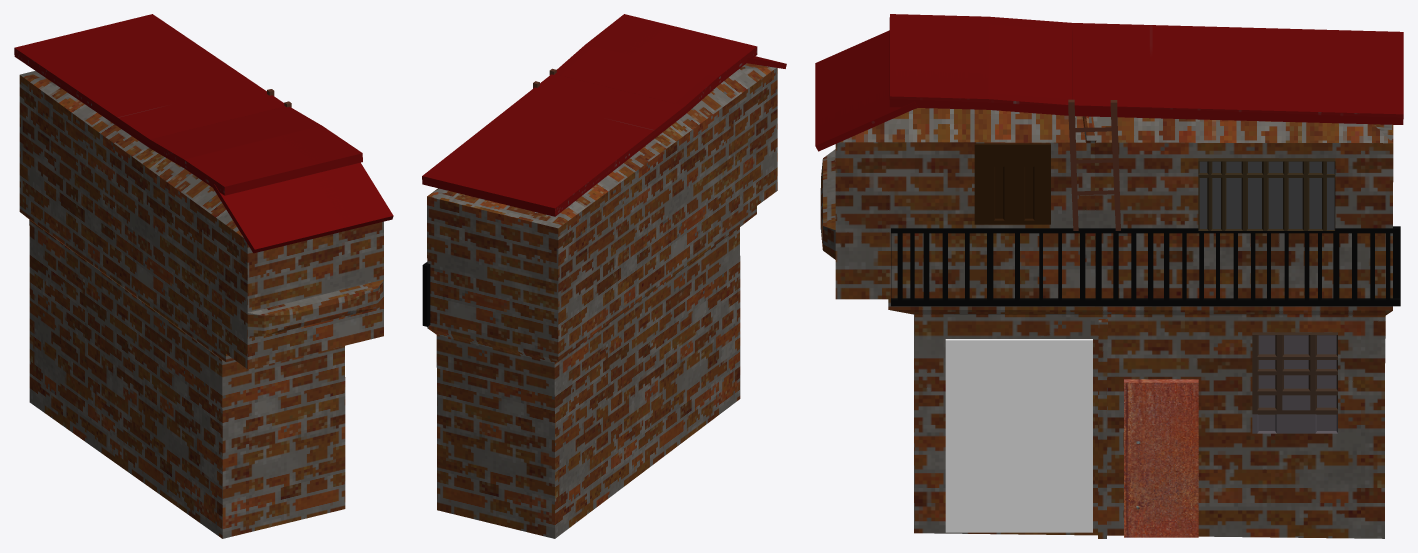
Rendered from SMALLhouseWtextures.glb.
The picture shows the model from 3 angles, left to right: view 1: azimuth 30°, elevation 25°; view 2: azimuth 150°, elevation 25°; view 3: azimuth 270°, elevation 25°; orthographic projection. The views are drawn at different scales.
Visible parts, largest first — view 1: Cube.020, Cube.030; view 2: Cube.020, Cube.030, Cube.032; view 3: Cube.020, Cube.030, Cube.027, Cube.032, Cube.025, Cube.022, Cube.034, Cube.033, Cube.021, Cube.026, Cube.031.
Part boxes in pixels (x1,y1,x2,y2): Cube.020: (19,71,383,538); Cube.030: (14,14,393,253); Cube.020: (427,63,777,538); Cube.030: (422,14,786,216); Cube.032: (422,262,430,326); Cube.020: (820,108,1393,538); Cube.030: (815,14,1403,151); Cube.027: (945,339,1092,532); Cube.032: (891,226,1400,306); Cube.025: (1124,379,1198,537); Cube.022: (974,143,1050,224); Cube.034: (1199,161,1334,229); Cube.033: (1252,335,1337,433); Cube.021: (1198,158,1335,230); Cube.026: (1252,332,1337,414); Cube.031: (1068,99,1120,230).
Bounding box in the file's own units: 2.33 × 5.7 × 6.8.
Materials: 11 (3 with a texture image).
